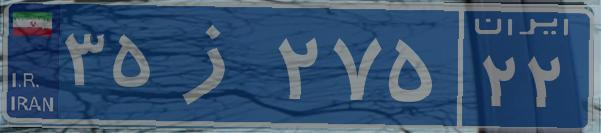2: (273, 28, 330, 110), (475, 38, 525, 113), (525, 38, 570, 115)
3: (57, 26, 110, 107)
5: (385, 28, 445, 110), (110, 28, 158, 105)
7: (330, 28, 385, 110)
ز: (158, 15, 273, 115)
